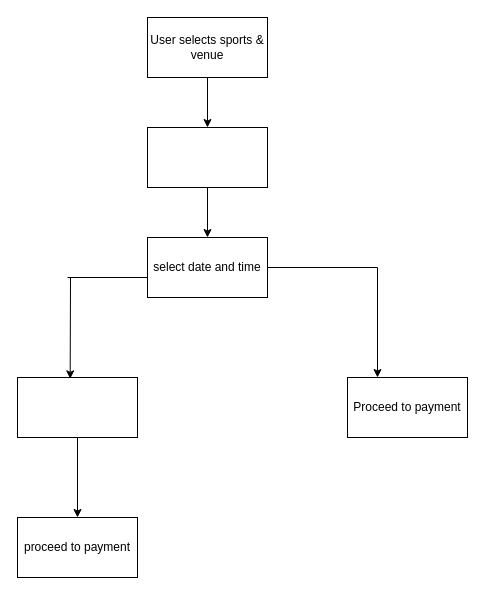
This 485x595 diagram has some shape labels left out. The centre of each missing label's shape, as x and y in pixels:
"Rental equipment" belongs at [77,407].
"View available slots" belongs at [207,157].
